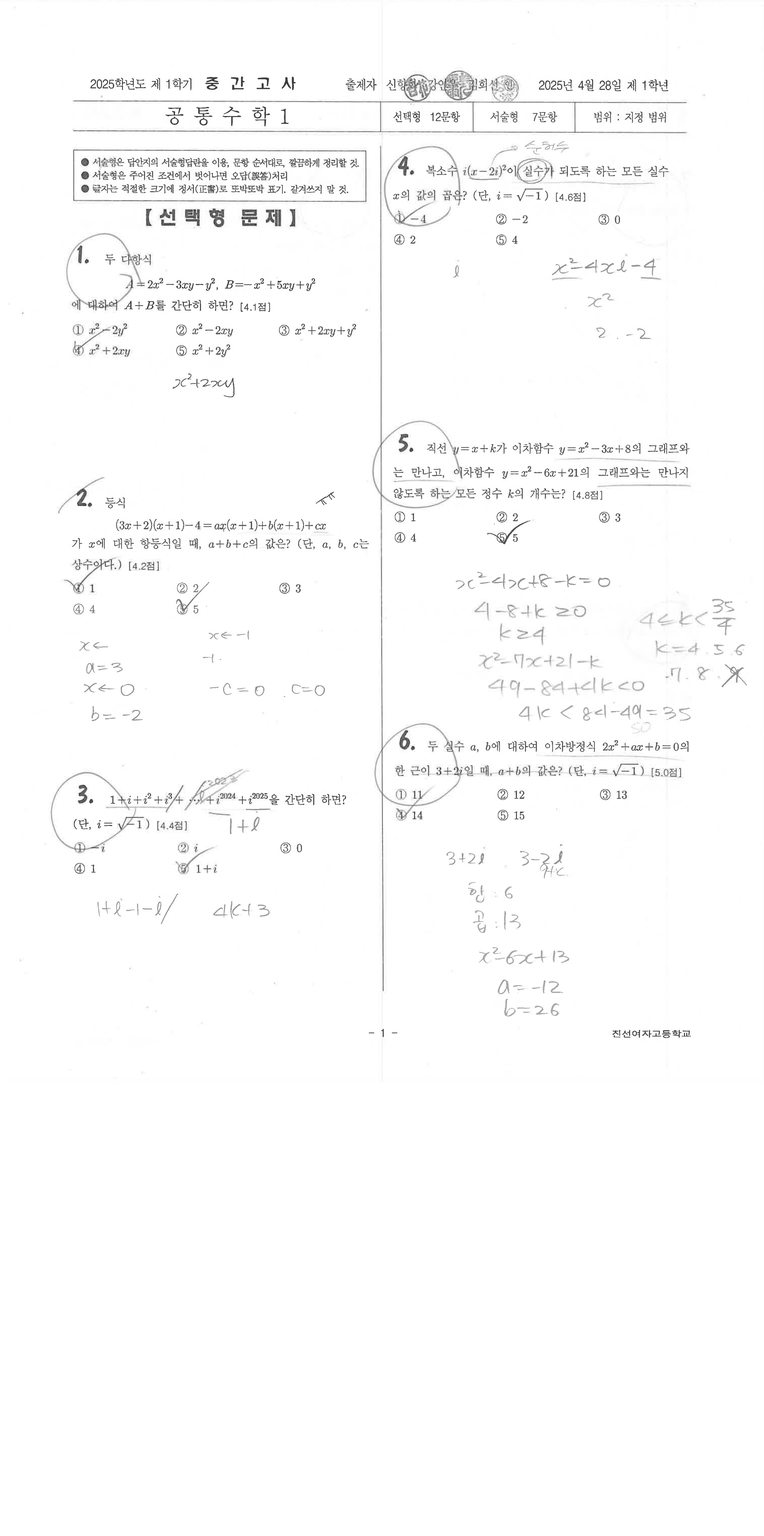problem: (67, 477, 373, 624), (64, 237, 362, 379), (386, 424, 705, 549), (56, 776, 368, 889), (390, 726, 703, 829), (387, 146, 688, 252)
